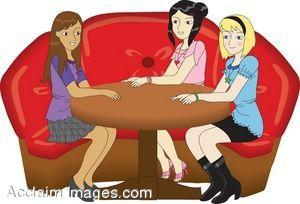diningtable: (70, 79, 232, 201)
person: (170, 14, 265, 203), (123, 1, 207, 180), (43, 11, 118, 199)
sofa: (1, 10, 296, 202)
